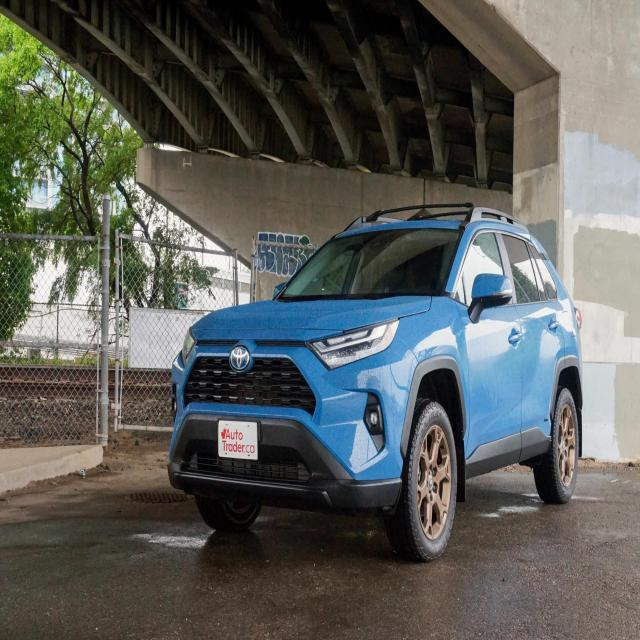light_vehicle: (166, 202, 585, 563)
